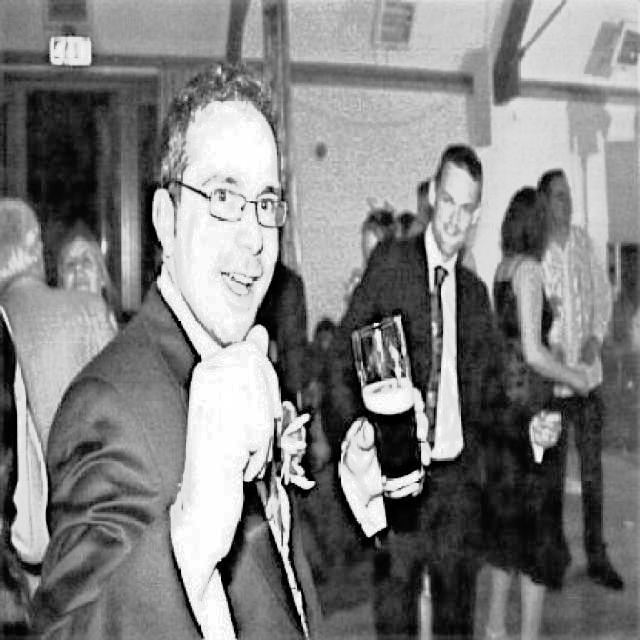Person: (24, 57, 437, 640), (325, 138, 565, 640), (549, 167, 628, 596), (494, 182, 593, 421)
